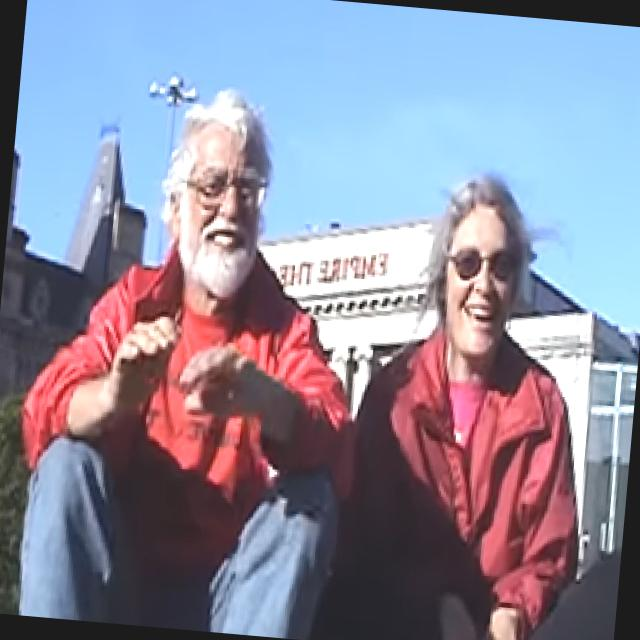person: (0, 71, 381, 640), (310, 164, 613, 640)
